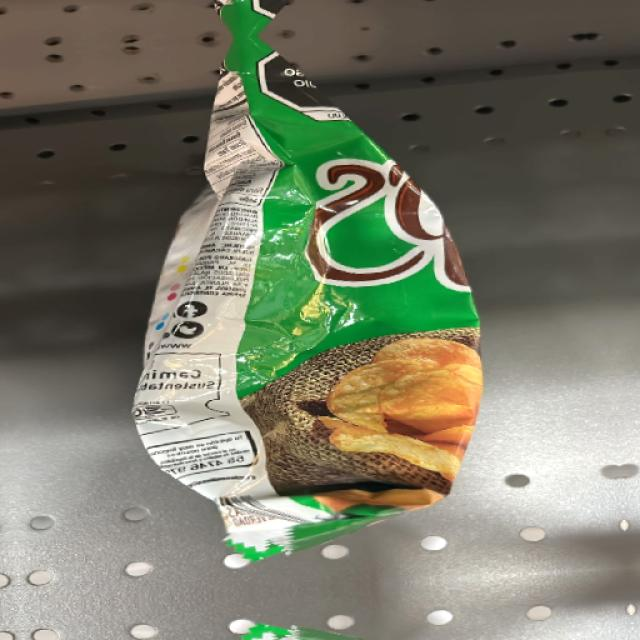chipsJalapeno: (254, 115, 469, 510)
